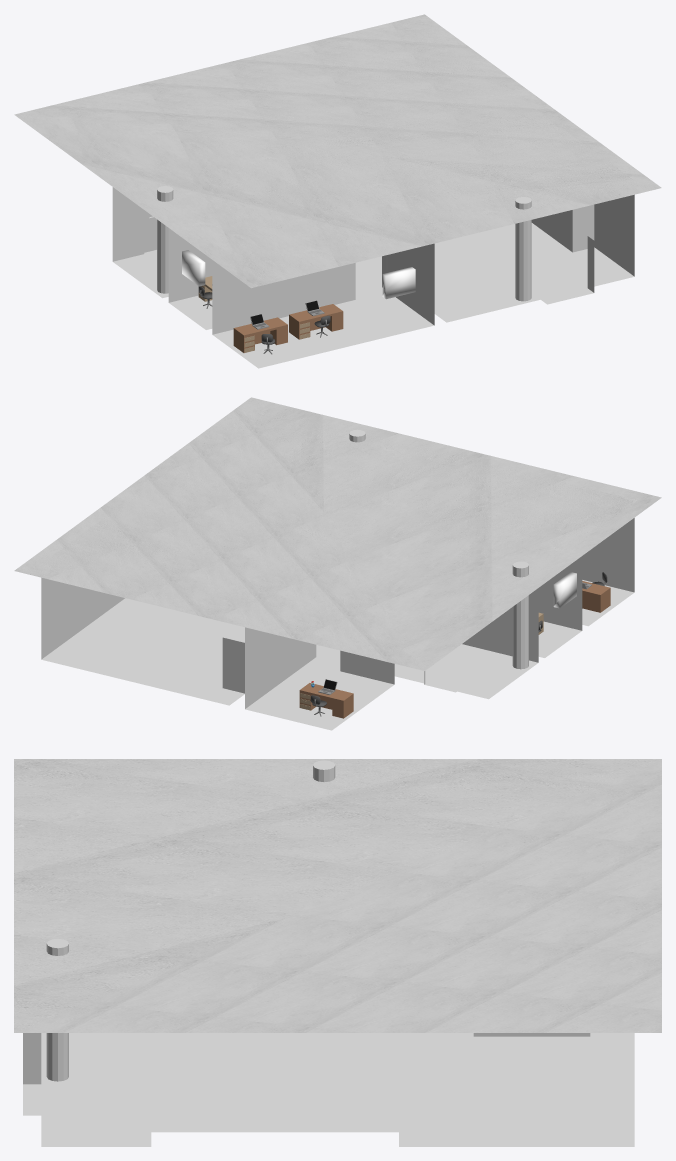
The model's file is inf.glb.
3 renders of one model, top to bottom at view 1: azimuth 30°, elevation 25°; view 2: azimuth 150°, elevation 25°; view 3: azimuth 270°, elevation 25°, orthographic. The views are drawn at different scales.
Visible parts, largest first — view 1: Cube.009, Plane, Plane.007, Cube.007, Cube.006, Plane.004, Plane.001; view 2: Cube.009, Plane, Plane.007, Cube, Cube.007, Plane.001; view 3: Cube.009, Plane.
Boxes of the visible parts, left/top/right/bottom form: Cube.009: left=14, top=14, right=661, bottom=288; Plane: left=112, top=186, right=634, bottom=368; Plane.007: left=170, top=25, right=639, bottom=268; Cube.007: left=233, top=314, right=287, bottom=352; Cube.006: left=289, top=300, right=343, bottom=339; Plane.004: left=382, top=267, right=415, bottom=299; Plane.001: left=182, top=250, right=205, bottom=286; Cube.009: left=14, top=397, right=661, bottom=670; Plane: left=41, top=429, right=634, bottom=730; Plane.007: left=37, top=410, right=637, bottom=616; Cube: left=299, top=679, right=353, bottom=718; Cube.007: left=582, top=581, right=610, bottom=612; Plane.001: left=553, top=572, right=576, bottom=608; Cube.009: left=14, top=759, right=661, bottom=1032; Plane: left=23, top=760, right=634, bottom=1146.
Bounding box in the file's own units: 32.76 × 7.73 × 32.76.
Materials: 16 (1 with a texture image).
